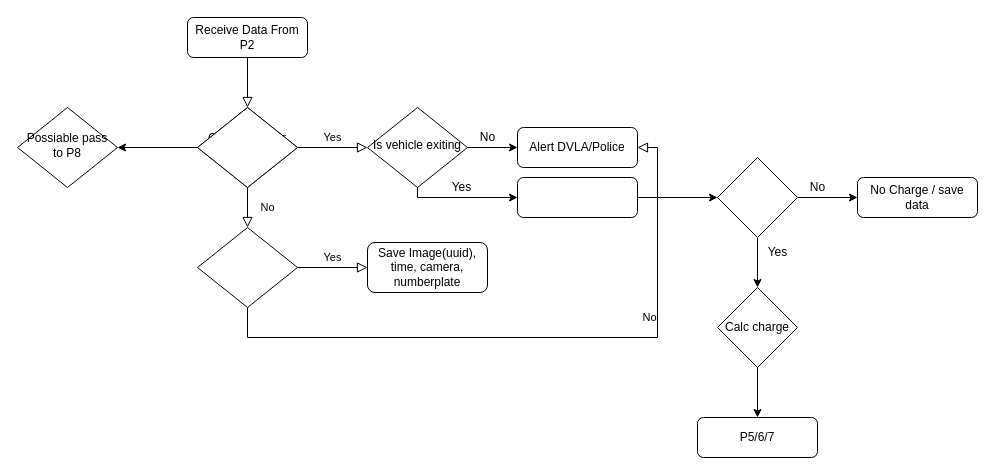
Image size: 995x475. Some labels were removed from this diagram. Here are the shapes that lost their labels. From the top down, the centre of each, then its label:
[247,147]: Check number plate exists in data store
[577,197]: Process Vehicle Leaving
[757,197]: Did vehicle go 1-2 segments
[247,267]: Is vehicle entering
